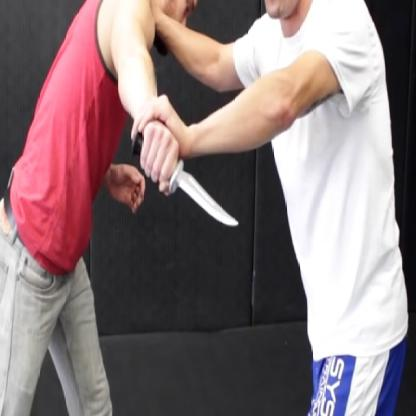knife: (128, 119, 246, 244)
